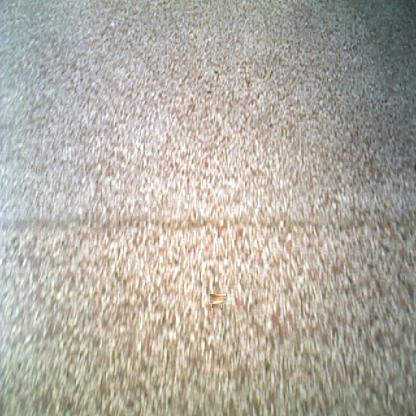dirty: (211, 293, 224, 306)
